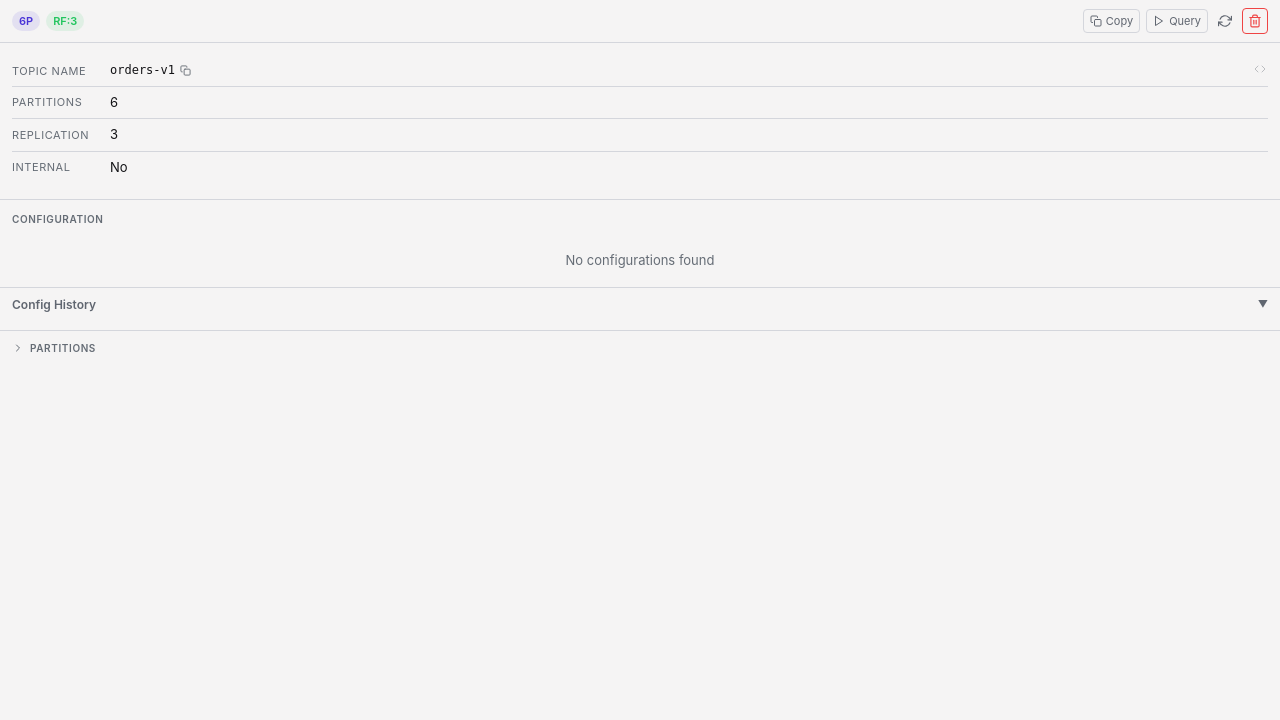
[@topic-detail] delete overlay › clicking the Delete button opens the confirmation overlay
Click the button named "delete topic" at (1255, 21), box [1242,8,1268,34]
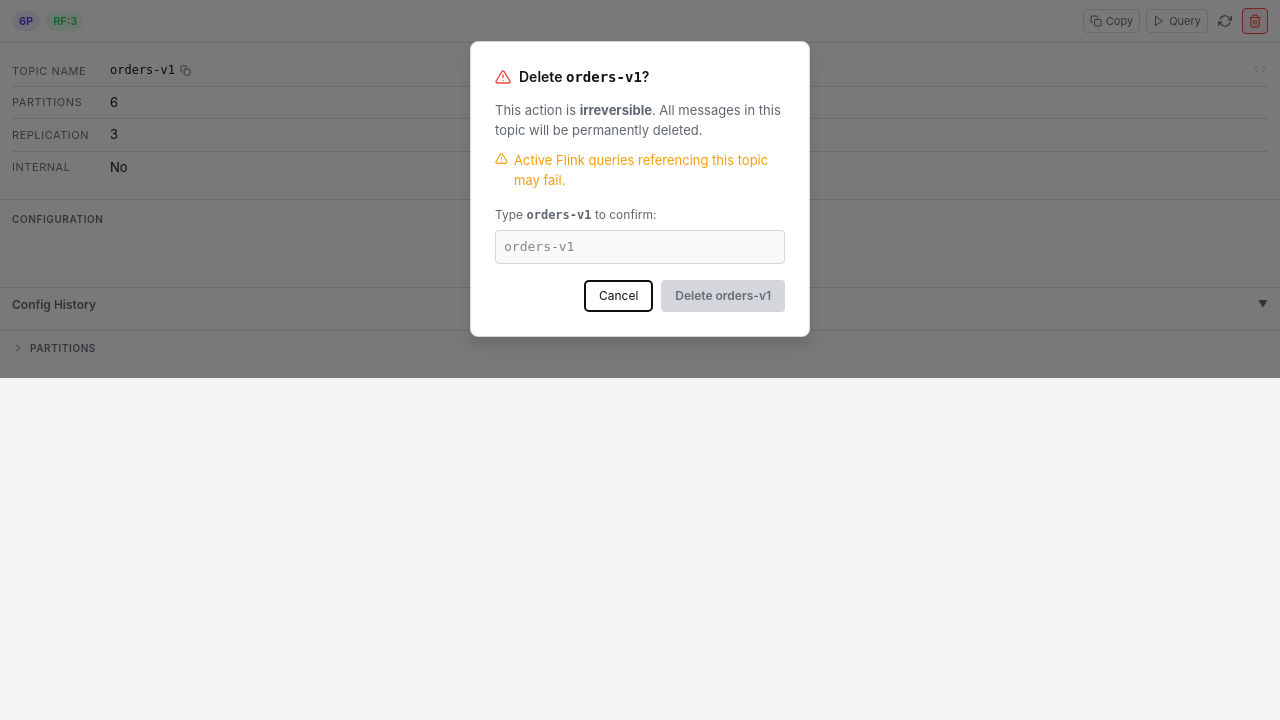
Check: the dialog is shown, box [0,0,1279,378]
